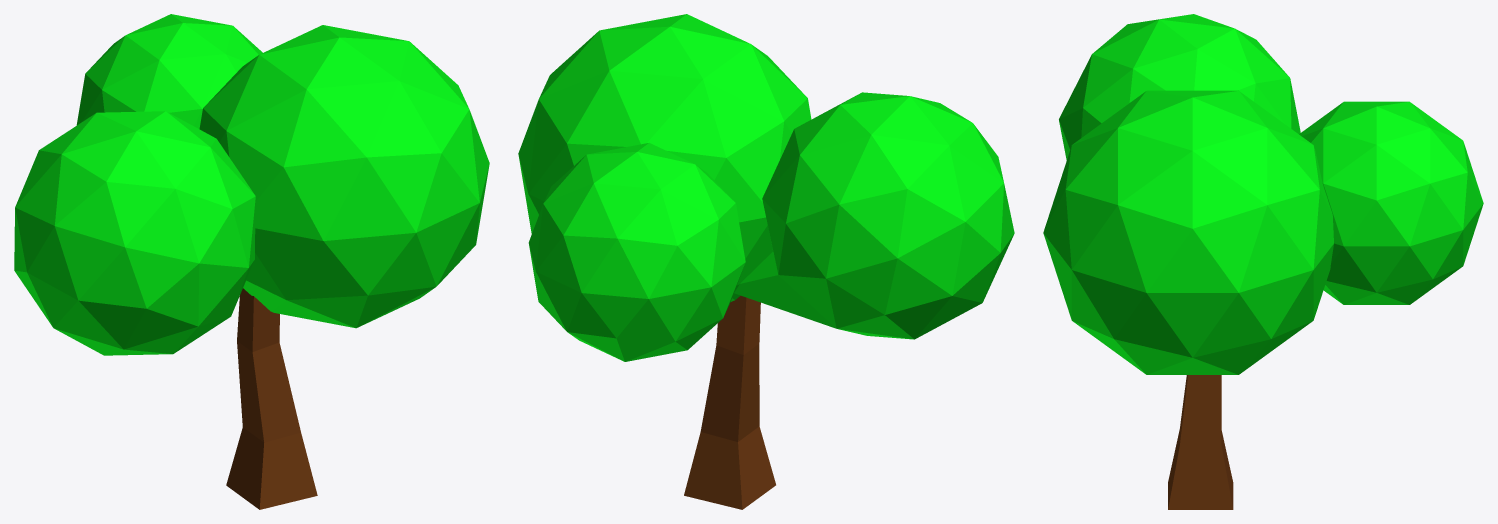
The model's file is yuvarlakAgac.gltf.
The picture shows the model from 3 angles, left to right: view 1: azimuth 30°, elevation 25°; view 2: azimuth 150°, elevation 25°; view 3: azimuth 270°, elevation 25°; orthographic projection. The views are drawn at different scales.
Visible parts, largest first — view 1: Cube; view 2: Cube; view 3: Cube.
Boxes of the visible parts, bbox=[...] form: Cube: bbox=[14, 14, 489, 509]; Cube: bbox=[518, 14, 1014, 509]; Cube: bbox=[1043, 14, 1483, 509].
Bounding box in the file's own units: 4.61 × 4.35 × 4.05.
1 material, 1 textured.
